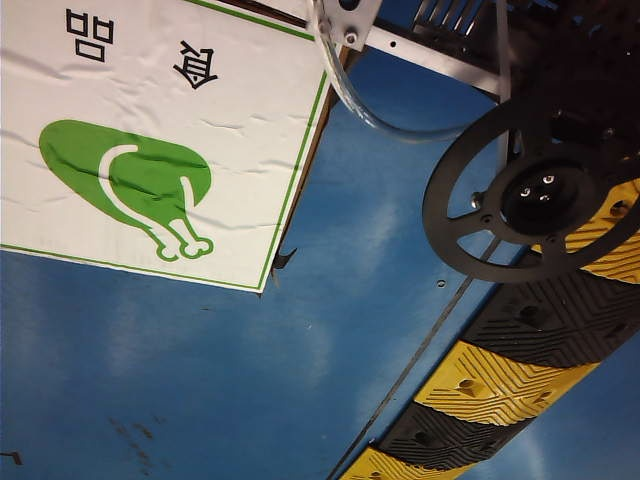Cube_food: (1, 6, 326, 294)
